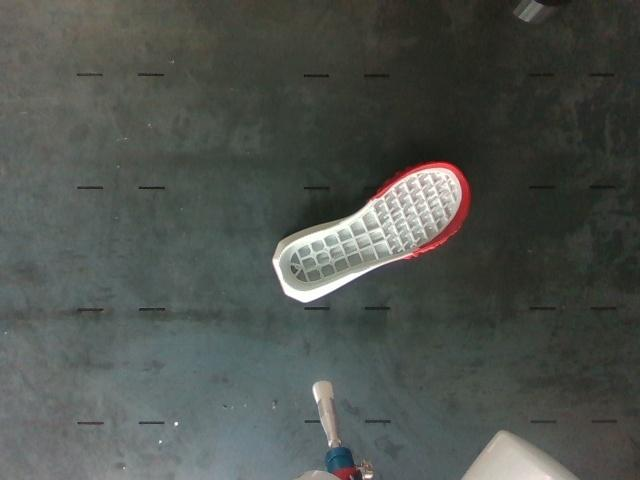shoes: (278, 164, 469, 291)
